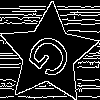G: (24, 29, 82, 89)
